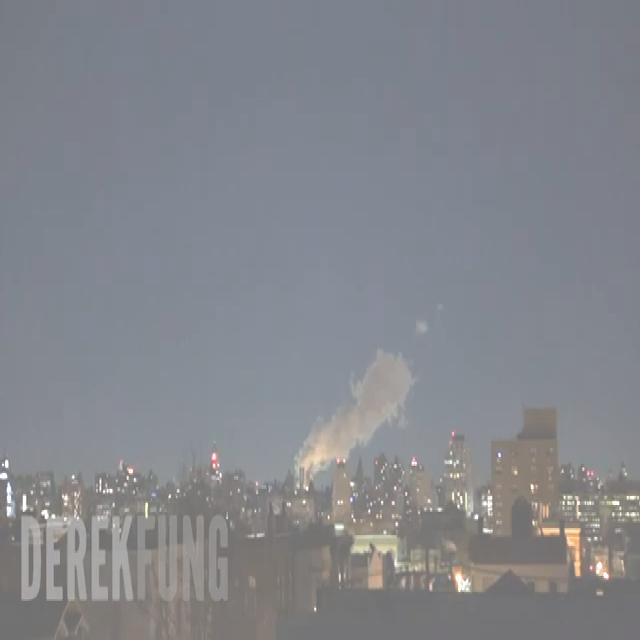smoke: (294, 350, 416, 485)
